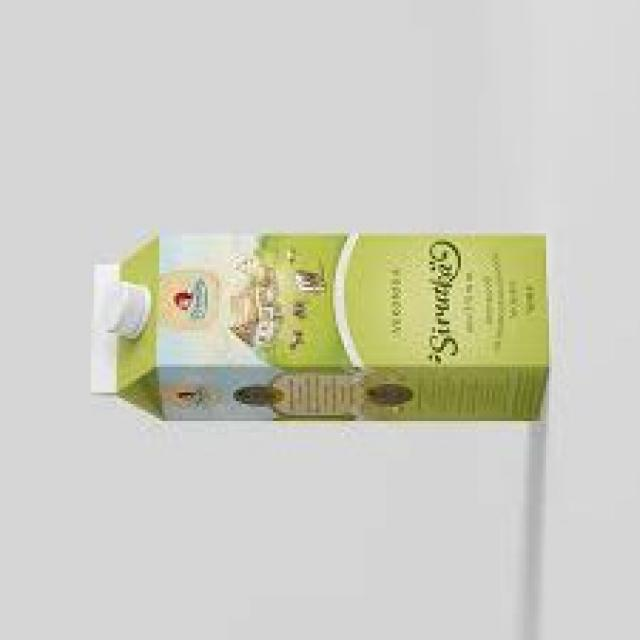non_white_jug: (85, 232, 554, 425)
